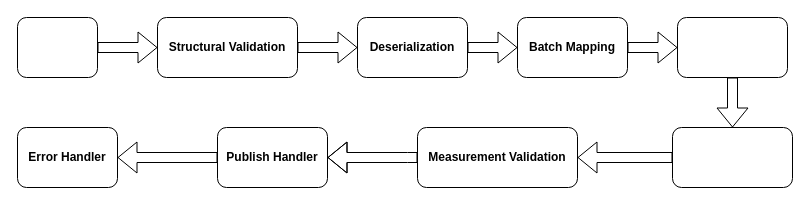
Image size: 810x205. Some labels were removed from this diagram. The shapes that lost their labels are listed below. From the top down, each one's box as (x1, y1, x2, y2) in pixels, then its label:
(16, 16, 98, 78): ParseJson
(676, 16, 788, 78): Topic Validation
(672, 126, 792, 188): Batch Validation
